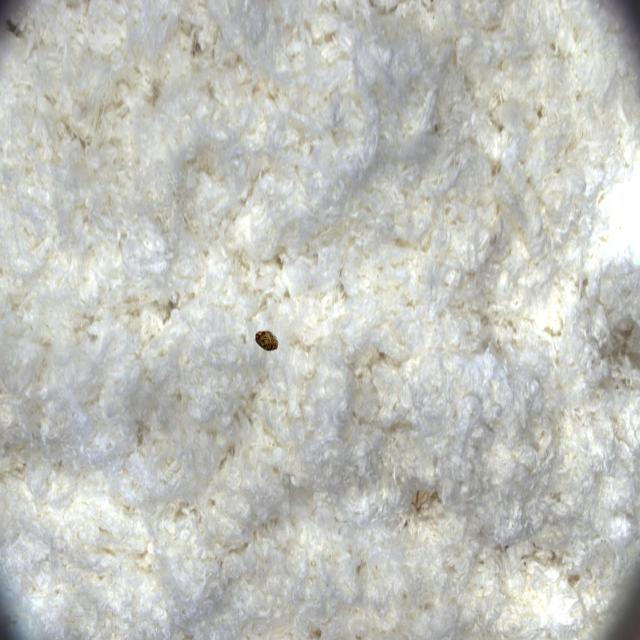dust: (248, 310, 292, 378)
